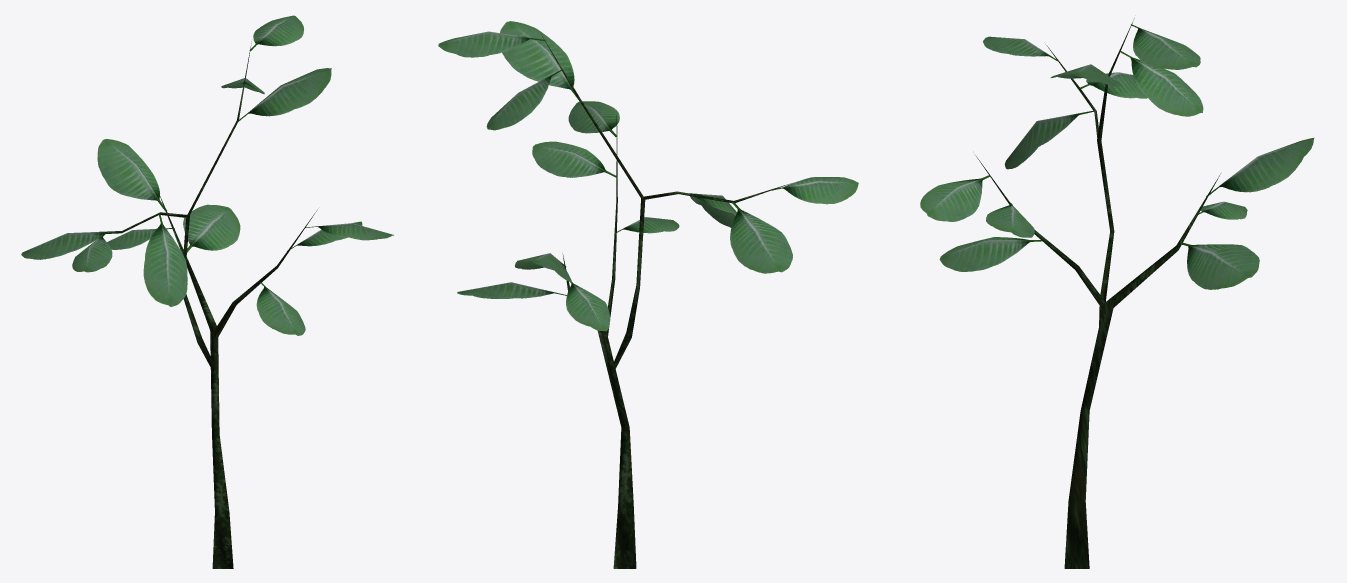
File: leaf_sapling_l0.fbx
3 views of the same model, side by side, from view 1: azimuth 30°, elevation 25°; view 2: azimuth 150°, elevation 25°; view 3: azimuth 270°, elevation 25° (orthographic). The views are drawn at different scales.
Visible parts, largest first — view 1: mesh_node; view 2: mesh_node; view 3: mesh_node.
Boxes of the visible parts, x1=… form: mesh_node: x1=21, y1=15, x2=393, y2=568; mesh_node: x1=438, y1=21, x2=858, y2=568; mesh_node: x1=920, y1=18, x2=1314, y2=568.
Bounding box in the file's own units: 1.49 × 2.15 × 1.46.
1 material, 1 textured.
